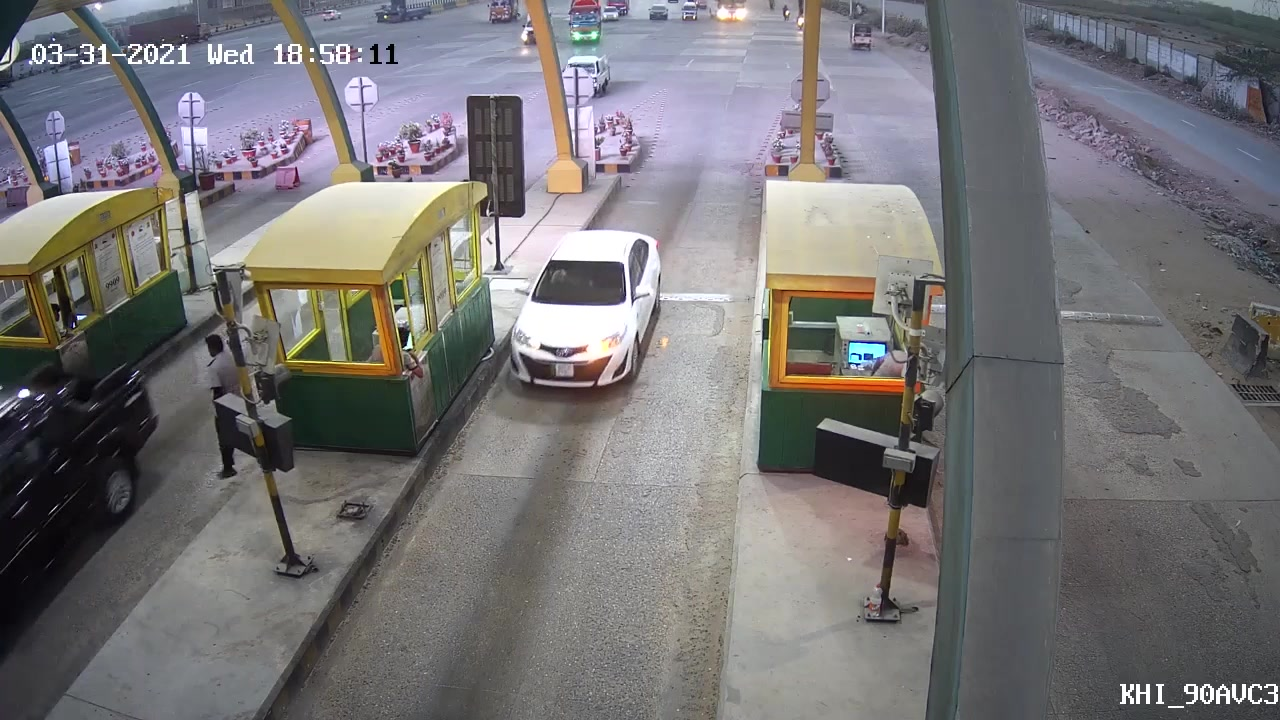F1: (501, 224, 668, 409)
